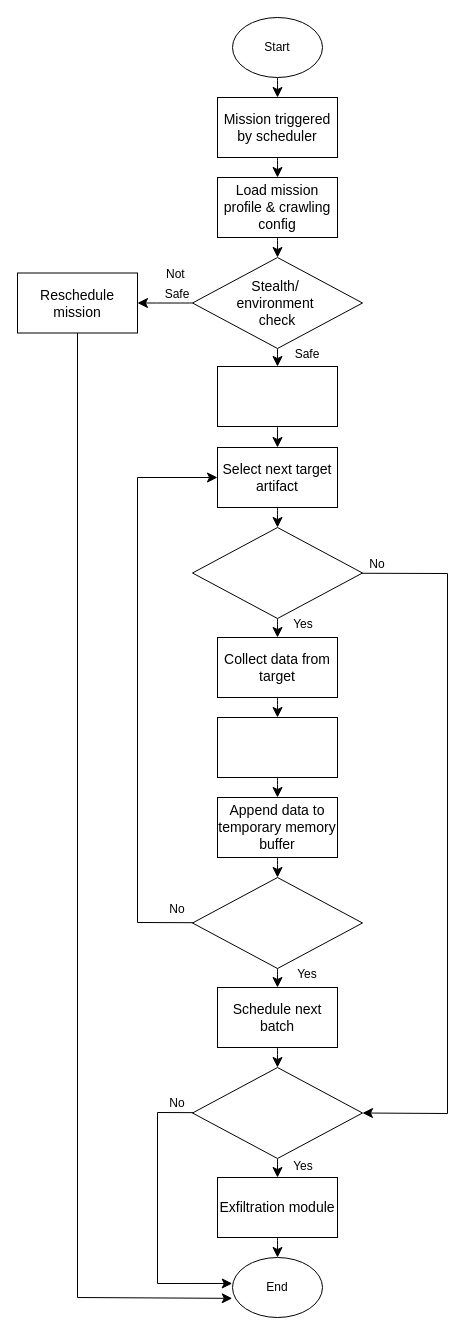
Image size: 475x1335. Some labels were removed from this diagram. The shapes that lost their labels are listed below. From the top down, each one's centre as x and y in pixels, then its label:
At (277,396): "Initialize target artifact list".
At (277,572): "More targets available?".
At (277,747): "Normalize & filter collected data".
At (277,922): "Stealth constraints satisfied? (time/volume)".
At (277,1112): "Buffer ready for exfiltration?".
